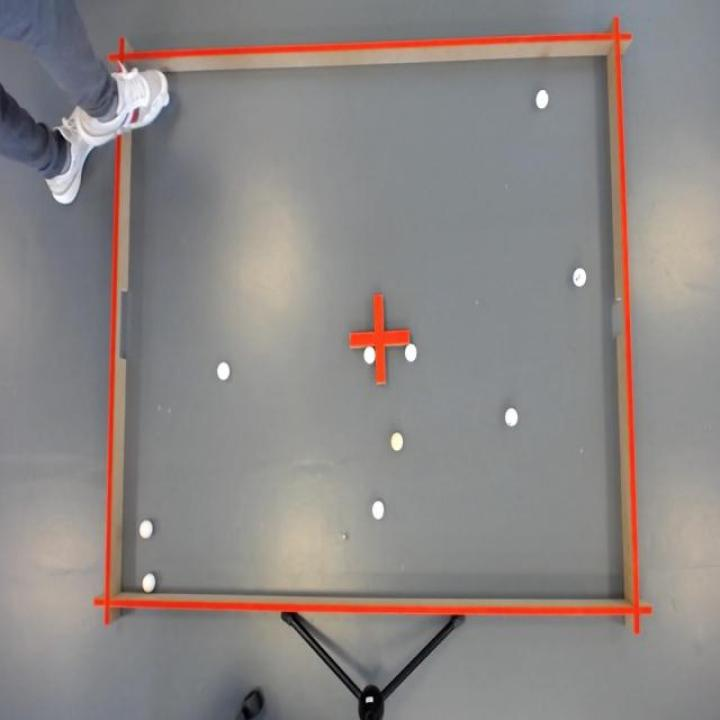white: (504, 405, 522, 431), (136, 518, 154, 543), (389, 429, 406, 455), (370, 498, 386, 524), (572, 264, 588, 290), (216, 360, 232, 385), (402, 340, 418, 365), (534, 87, 550, 112), (139, 572, 156, 595), (363, 343, 376, 365)
